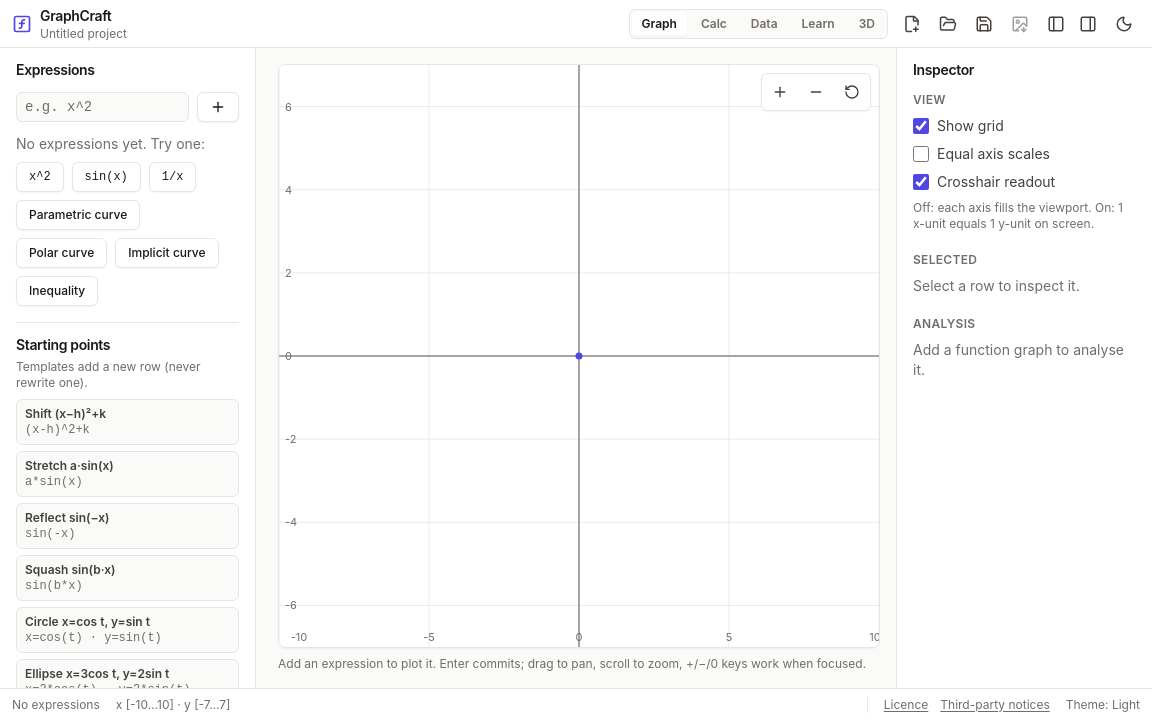
practice mode › checks numeric sets order-insensitively and hides answers until asked
Click the button with aria-label "Show learn library".
click(818, 24)  # box x1=792 y1=12 x2=845 y2=36
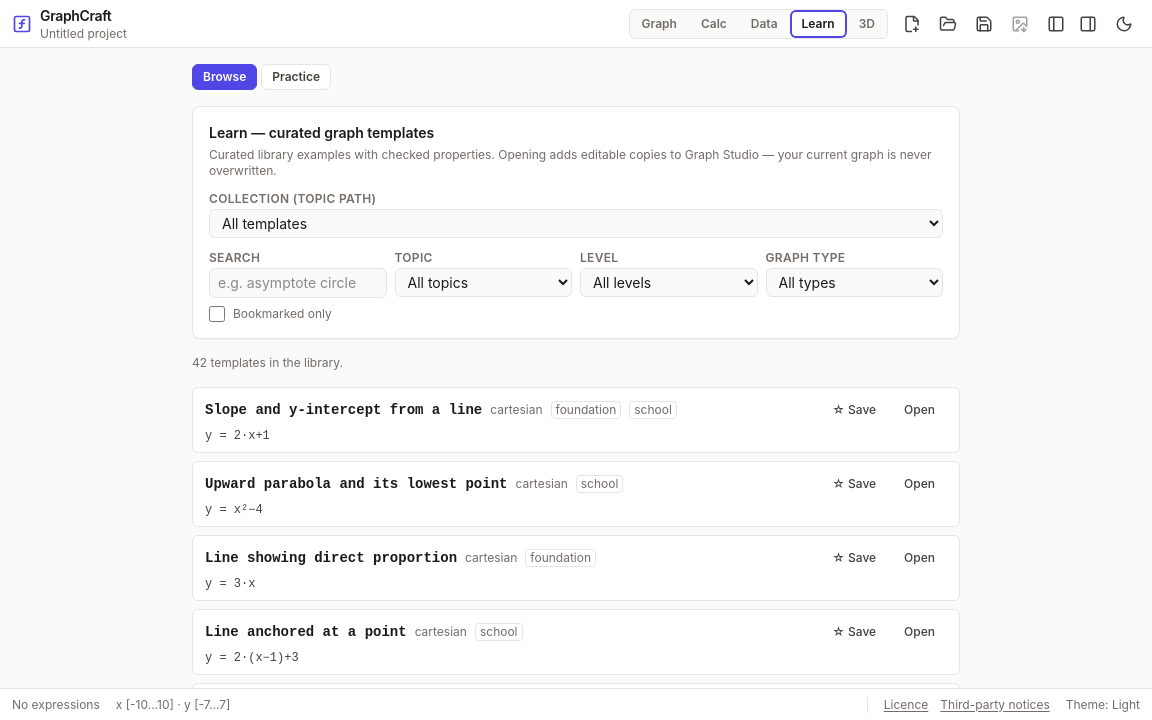
Now the element "Learn" is shown
Now the element named "Learn section" is shown, box x1=192 y1=64 x2=331 y2=90
Click the button with aria-label "Learn practice".
click(296, 77)  # box x1=261 y1=64 x2=331 y2=90
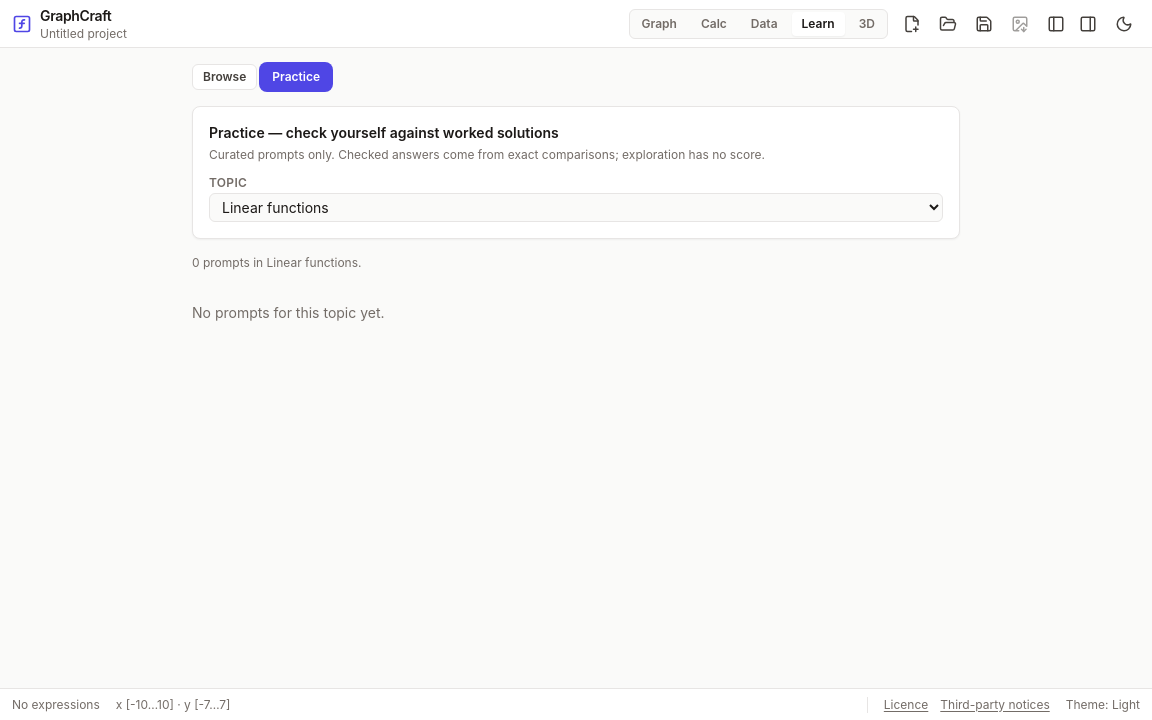
Now the dropdown named "Practice topic" is shown
Select "Quadratics" in the dropdown named "Practice topic" at (576, 208), box x1=209 y1=193 x2=943 y2=222
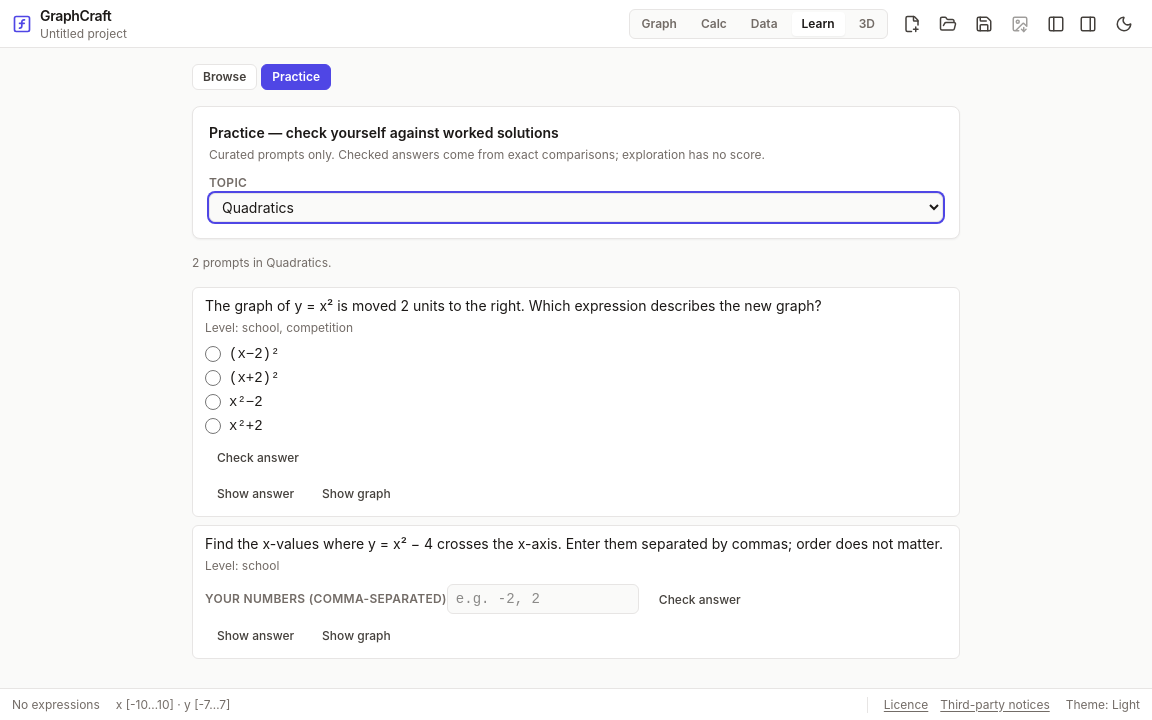
Type "2, -2" into the field named "Numbers for identify-quadratic-roots".
click(543, 599); type("2, -2")  # box x1=447 y1=584 x2=639 y2=614
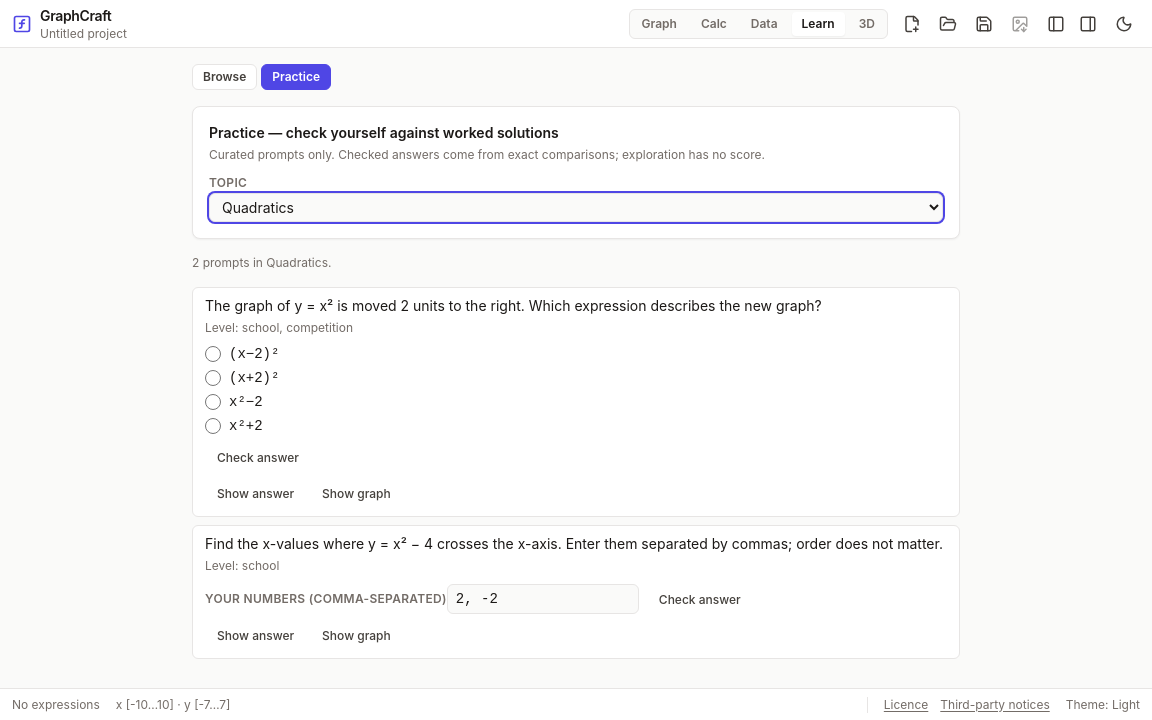
Click the button "Check answer" in the row of "Your numbers (comma-separated)".
click(700, 600)  # box x1=647 y1=586 x2=753 y2=614
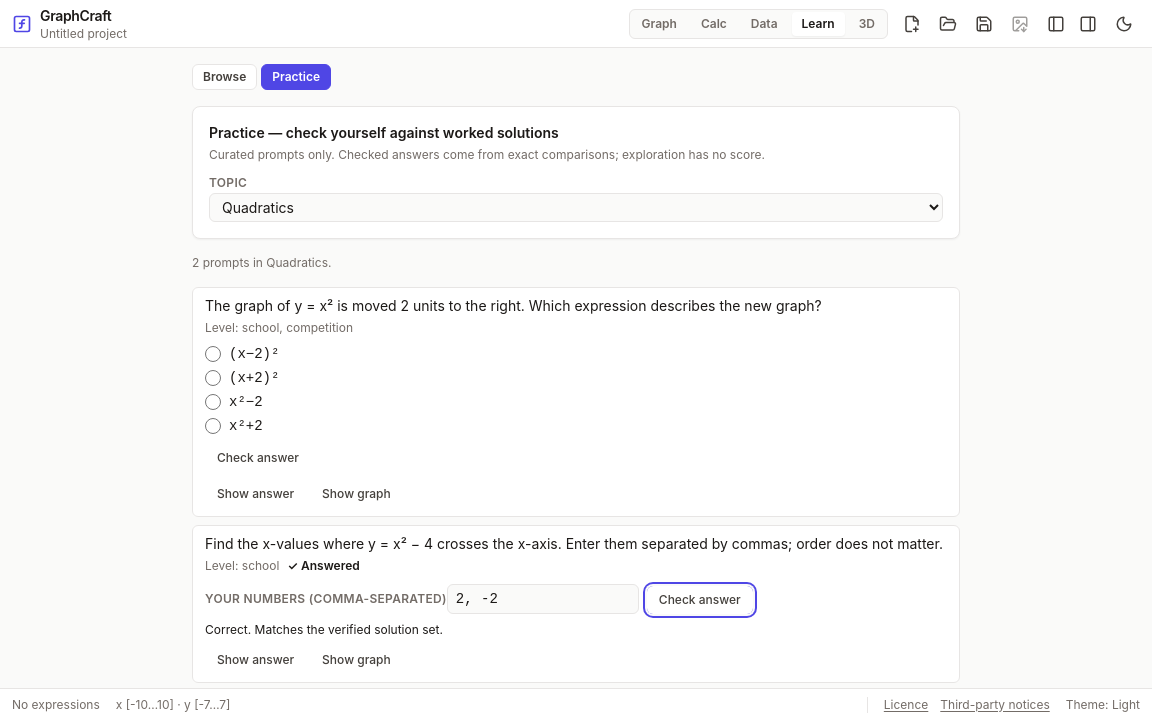
Now the text "Correct. Matches the verified solution set." is shown, box x1=205 y1=622 x2=443 y2=637
